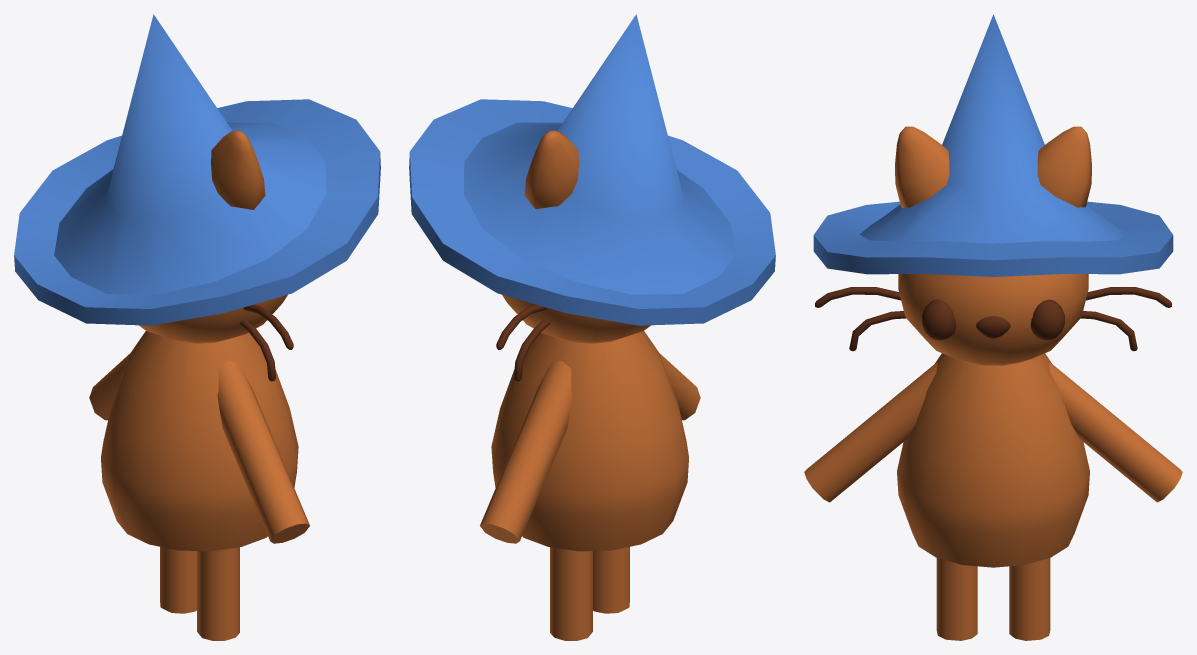
File: Player_cat.fbx
3 views of the same model, side by side, from view 1: azimuth 30°, elevation 25°; view 2: azimuth 150°, elevation 25°; view 3: azimuth 270°, elevation 25° (orthographic). The views are drawn at different scales.
Parts seen in each view (by area): view 1: Cat_hat, Cat_body, Cat_arms, Cat_legs, Cat_ears, Cat_head, Cat_whiskers; view 2: Cat_hat, Cat_body, Cat_arms, Cat_legs, Cat_ears, Cat_head, Cat_whiskers; view 3: Cat_hat, Cat_body, Cat_arms, Cat_head, Cat_ears, Cat_legs, Cat_whiskers, Cat_eyes, Cat_nose.
Boxes of the visible parts, x1,y1,x2,y2 form: Cat_hat: (14,14,380,325); Cat_body: (101,331,298,551); Cat_arms: (89,354,309,543); Cat_legs: (160,547,239,640); Cat_ears: (211,130,265,209); Cat_head: (139,294,287,343); Cat_whiskers: (239,304,293,381); Cat_hat: (409,14,775,325); Cat_body: (491,331,688,551); Cat_arms: (480,354,700,543); Cat_legs: (550,547,629,640); Cat_ears: (524,130,578,209); Cat_head: (502,294,650,343); Cat_whiskers: (496,304,550,381); Cat_hat: (813,14,1173,276); Cat_body: (897,353,1089,567); Cat_arms: (804,362,1182,502); Cat_head: (898,274,1088,365); Cat_ears: (895,126,1091,208); Cat_legs: (936,558,1050,640); Cat_whiskers: (815,287,1171,351); Cat_eyes: (922,299,1064,340); Cat_nose: (976,316,1010,338).
Bounding box in the file's own units: 71.85 × 132 × 75.96.
